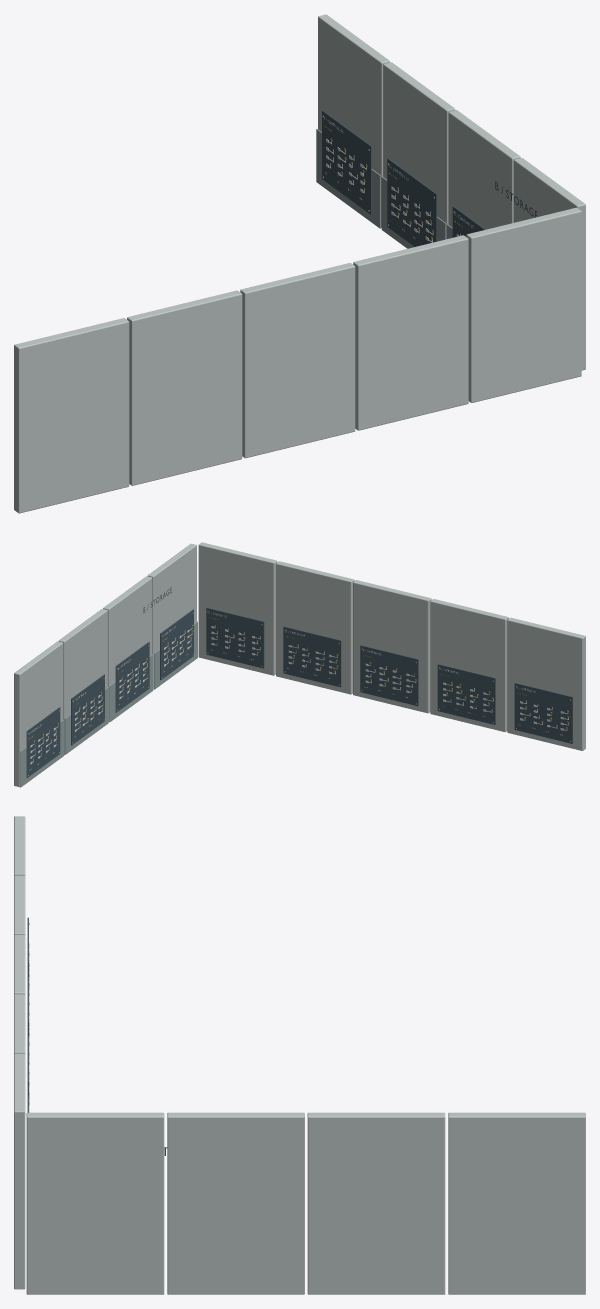
The model's file is cutaway.glb.
3 renders of one model, top to bottom at view 1: azimuth 30°, elevation 25°; view 2: azimuth 150°, elevation 25°; view 3: azimuth 270°, elevation 25°, orthographic. The views are drawn at different scales.
Parts seen in each view (by area): view 1: cutaway_static_wall-ivory, cutaway_static_paint-slate, cutaway_static_panel-light, cutaway_static_white; view 2: cutaway_static_wall-ivory, cutaway_static_paint-slate, cutaway_static_white, cutaway_static_panel-light, cutaway_static_amber; view 3: cutaway_static_wall-ivory.
Part boxes in pixels (x1,y1,x2,y2): cutaway_static_wall-ivory: [14, 14, 585, 513]; cutaway_static_paint-slate: [322, 110, 537, 246]; cutaway_static_panel-light: [316, 129, 452, 248]; cutaway_static_white: [324, 117, 473, 242]; cutaway_static_wall-ivory: [14, 542, 585, 787]; cutaway_static_paint-slate: [26, 587, 572, 777]; cutaway_static_white: [29, 611, 568, 770]; cutaway_static_panel-light: [20, 621, 197, 787]; cutaway_static_amber: [29, 617, 569, 741]; cutaway_static_wall-ivory: [14, 816, 585, 1294].
Bounding box in the file's own units: 10.14 × 2.8 × 8.14.
